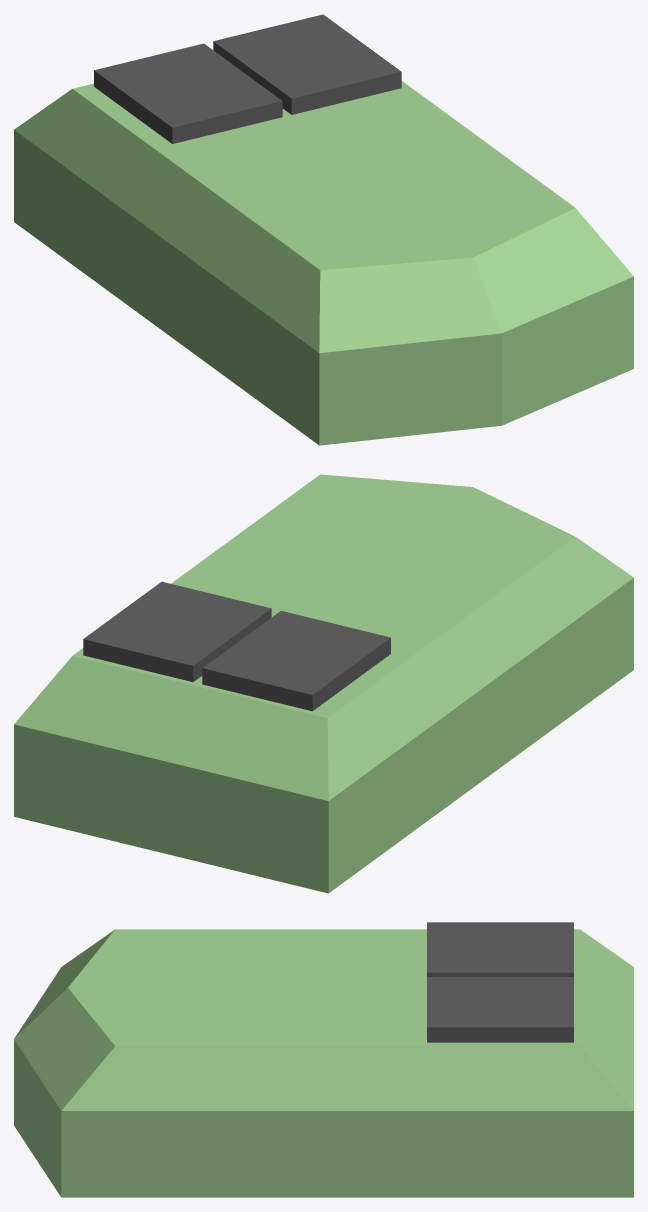
Rendered from Mouse.fbx.
3 views of the same model, one above another, from view 1: azimuth 30°, elevation 25°; view 2: azimuth 150°, elevation 25°; view 3: azimuth 270°, elevation 25° (orthographic). The views are drawn at different scales.
Visible parts, largest first — view 1: Mouse; view 2: Mouse; view 3: Mouse.
Part boxes in pixels (x1,y1,x2,y2): Mouse: [14, 14, 633, 445]; Mouse: [14, 474, 633, 893]; Mouse: [14, 922, 633, 1197].
Size of the model in its own units: 22.17 by 11.01 by 40.37.
